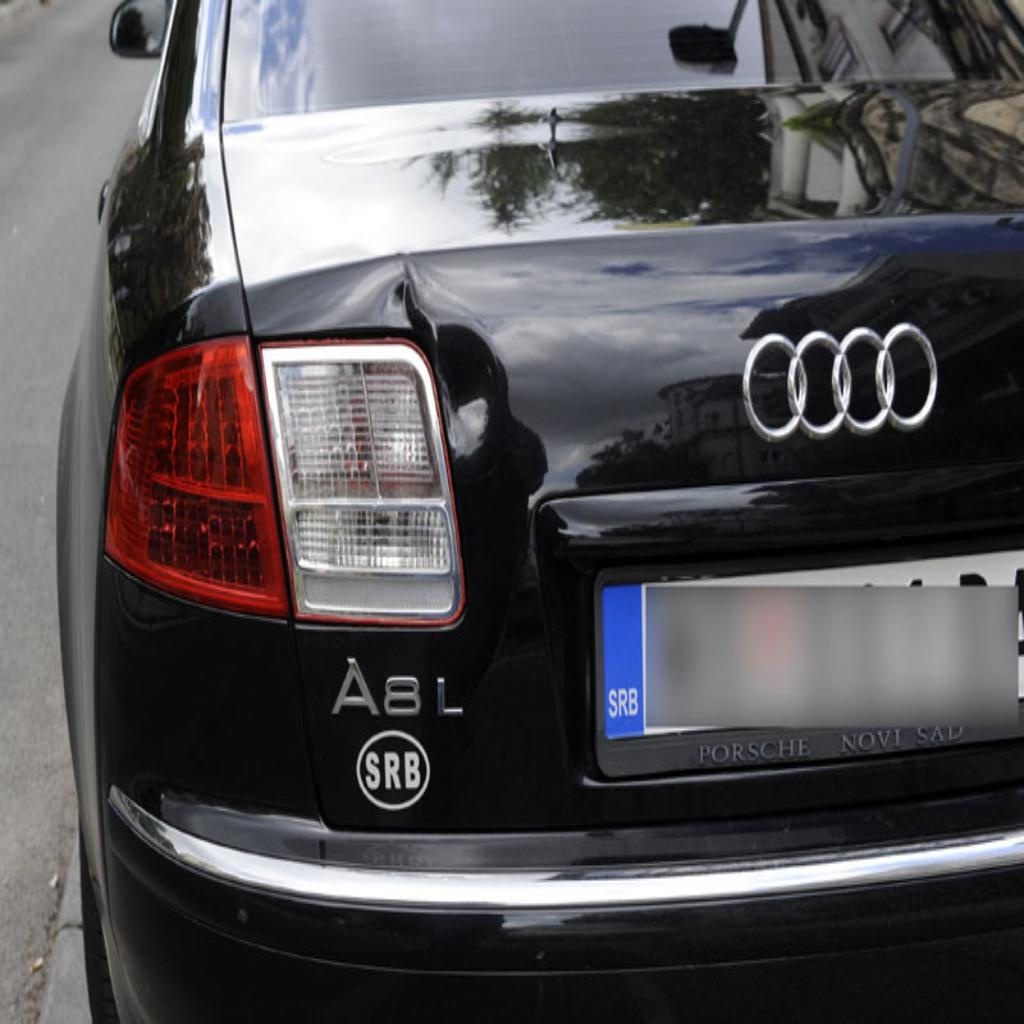Dent: (355, 263, 519, 458)
